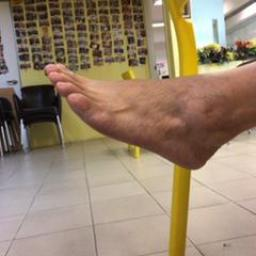Lateral View -Left Foot-: (27, 44, 255, 189)
